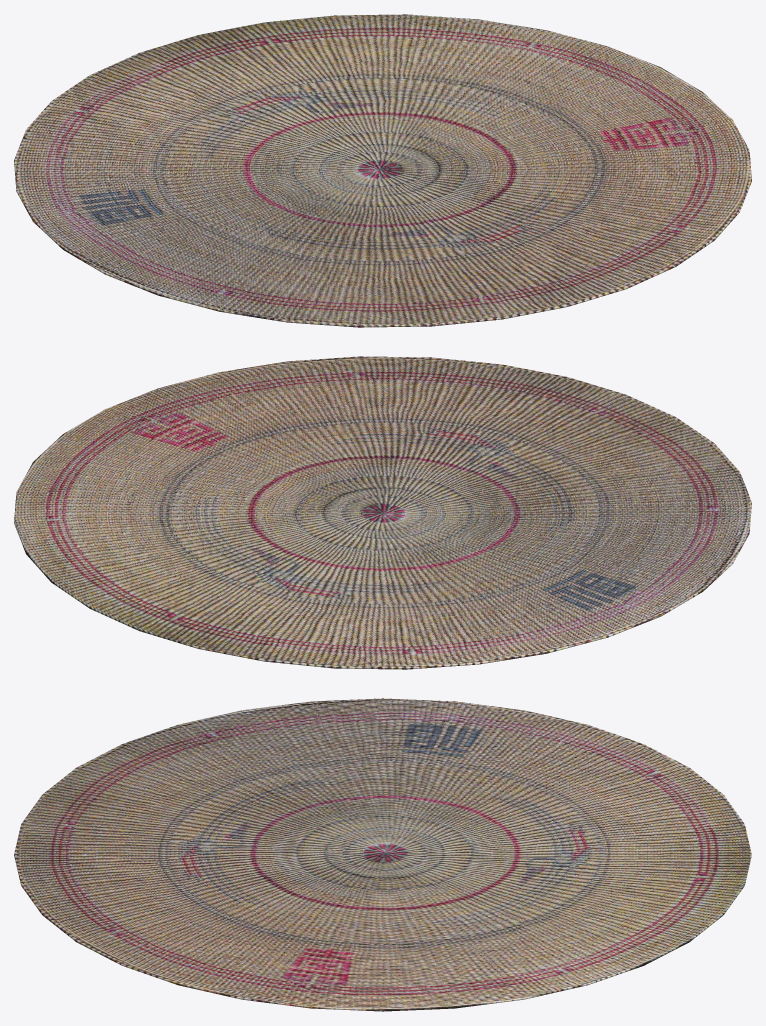
3 views of the same model, one above another, from view 1: azimuth 30°, elevation 25°; view 2: azimuth 150°, elevation 25°; view 3: azimuth 270°, elevation 25° (orthographic).
Visible parts, largest first — view 1: SM_GNJ_Sittingmat; view 2: SM_GNJ_Sittingmat; view 3: SM_GNJ_Sittingmat.
Boxes of the visible parts, <box> form: SM_GNJ_Sittingmat: <box>14,14,751,327</box>; SM_GNJ_Sittingmat: <box>14,356,751,669</box>; SM_GNJ_Sittingmat: <box>14,698,751,1011</box>.
Bounding box in the file's own units: 0.7 × 0.00201 × 0.7.
Materials: 1 (1 with a texture image).
